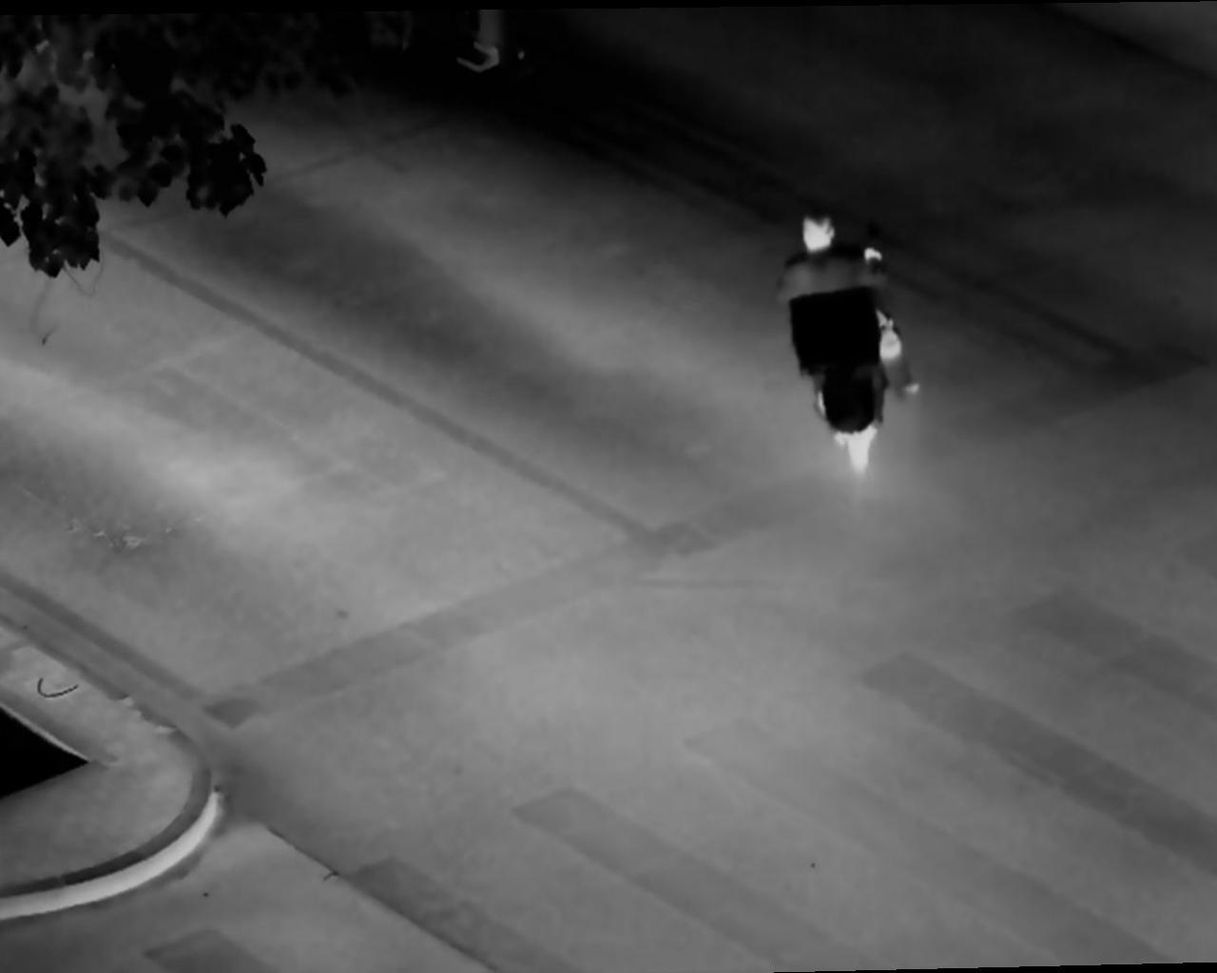person: (773, 206, 925, 423)
